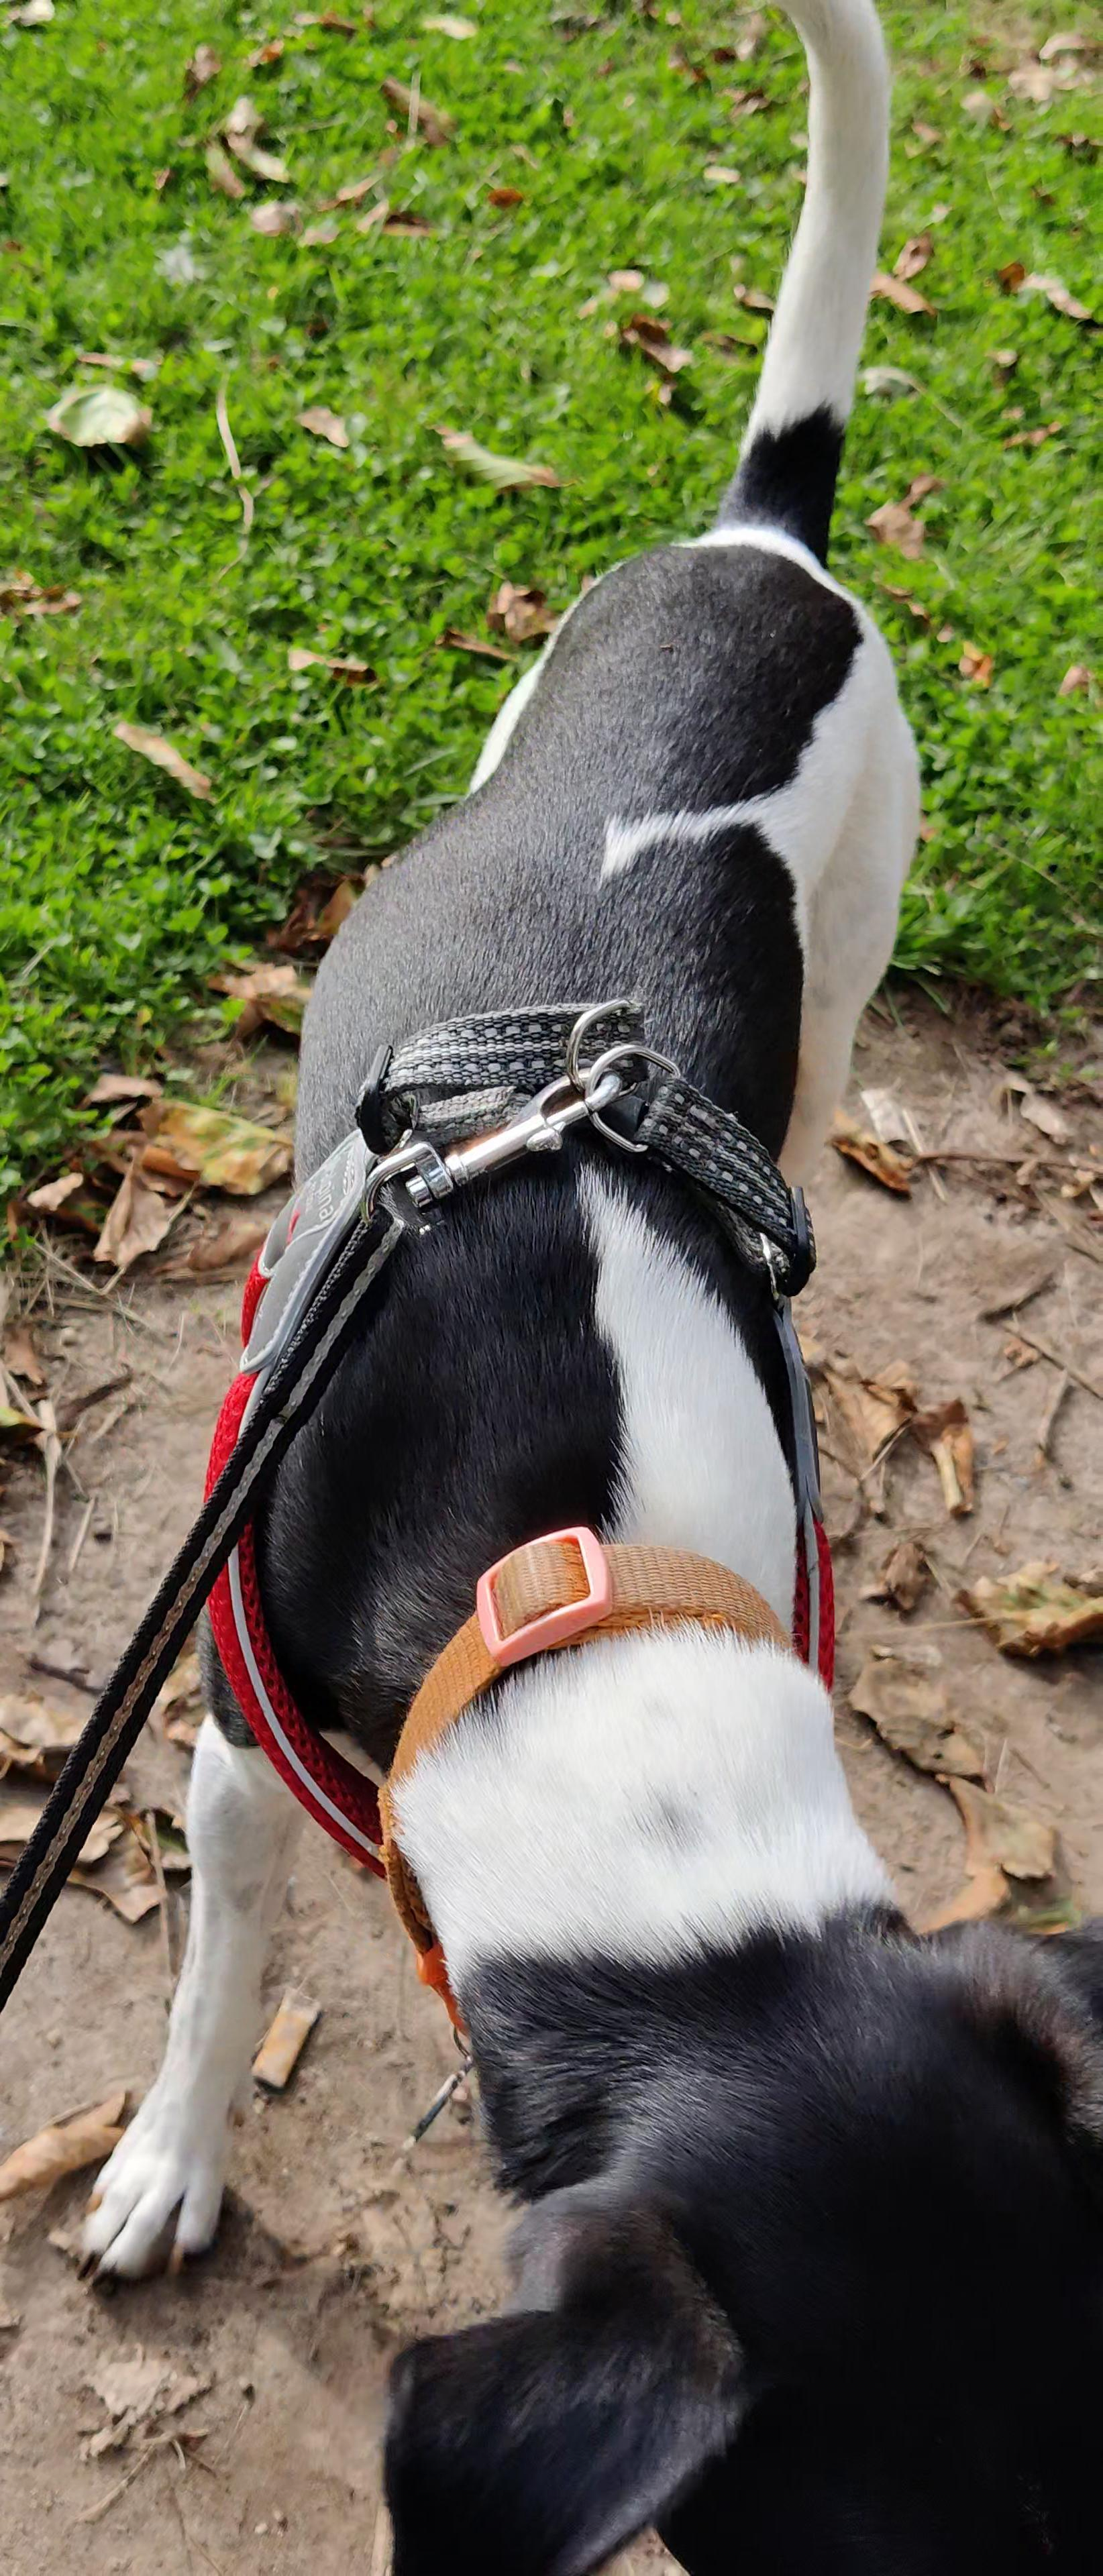Dog: (66, 0, 1103, 2576)
